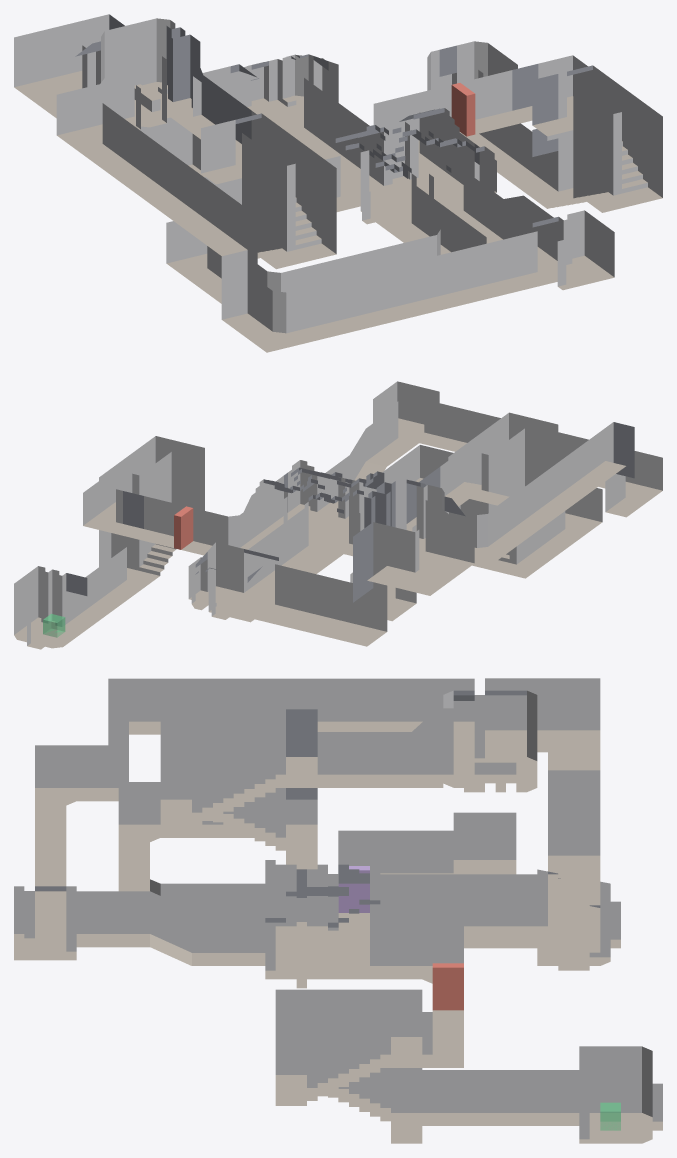
File: research_07.glb
3 views of the same model, one above another, from view 1: azimuth 30°, elevation 25°; view 2: azimuth 150°, elevation 25°; view 3: azimuth 270°, elevation 25° (orthographic). The views are drawn at different scales.
Visible parts, largest first — view 1: corridor:8, room:7, room:6, corridor:5, corridor:1, corridor:7, room:1, room:0, corridor:2, corridor:3, room:3, corridor:6 (+13 smaller); view 2: corridor:8, corridor:7, room:7, room:6, corridor:1, corridor:5, room:1, corridor:2, room:3, room:2, corridor:3, corridor:6 (+14 smaller); view 3: corridor:8, room:6, room:7, corridor:7, corridor:3, corridor:2, corridor:5, corridor:6, room:1, room:2, corridor:0, corridor:4 (+13 smaller).
Part boxes in pixels (<box>): corridor:8: <box>56,84,552,352</box>; room:7: <box>532,65,662,212</box>; room:6: <box>201,113,336,269</box>; corridor:5: <box>166,186,486,303</box>; corridor:1: <box>373,55,592,157</box>; corridor:7: <box>14,14,230,131</box>; room:1: <box>340,108,494,232</box>; room:0: <box>101,18,200,127</box>; corridor:2: <box>287,78,378,191</box>; corridor:3: <box>459,174,558,266</box>; room:3: <box>230,54,338,131</box>; corridor:6: <box>470,123,558,197</box>; corridor:8: <box>419,401,662,563</box>; corridor:7: <box>255,518,474,646</box>; room:7: <box>99,436,204,584</box>; room:6: <box>448,412,558,571</box>; corridor:1: <box>83,481,250,555</box>; corridor:5: <box>363,445,602,578</box>; room:1: <box>255,460,384,556</box>; corridor:2: <box>244,508,339,600</box>; room:3: <box>191,542,278,622</box>; room:2: <box>14,566,87,648</box>; corridor:3: <box>321,408,414,512</box>; corridor:6: <box>66,547,147,629</box>; corridor:8: <box>35,678,474,933</box>; room:6: <box>160,709,317,869</box>; room:7: <box>275,989,422,1143</box>; corridor:7: <box>485,678,600,926</box>; corridor:3: <box>76,891,265,965</box>; corridor:2: <box>380,874,537,948</box>; corridor:5: <box>118,782,317,910</box>; corridor:6: <box>422,1070,579,1125</box>; room:1: <box>265,860,380,979</box>; room:2: <box>579,1046,652,1143</box>; corridor:0: <box>317,732,443,787</box>; corridor:4: <box>338,830,453,926</box>.
Bounding box in the file's own units: 59 × 24 × 62.
